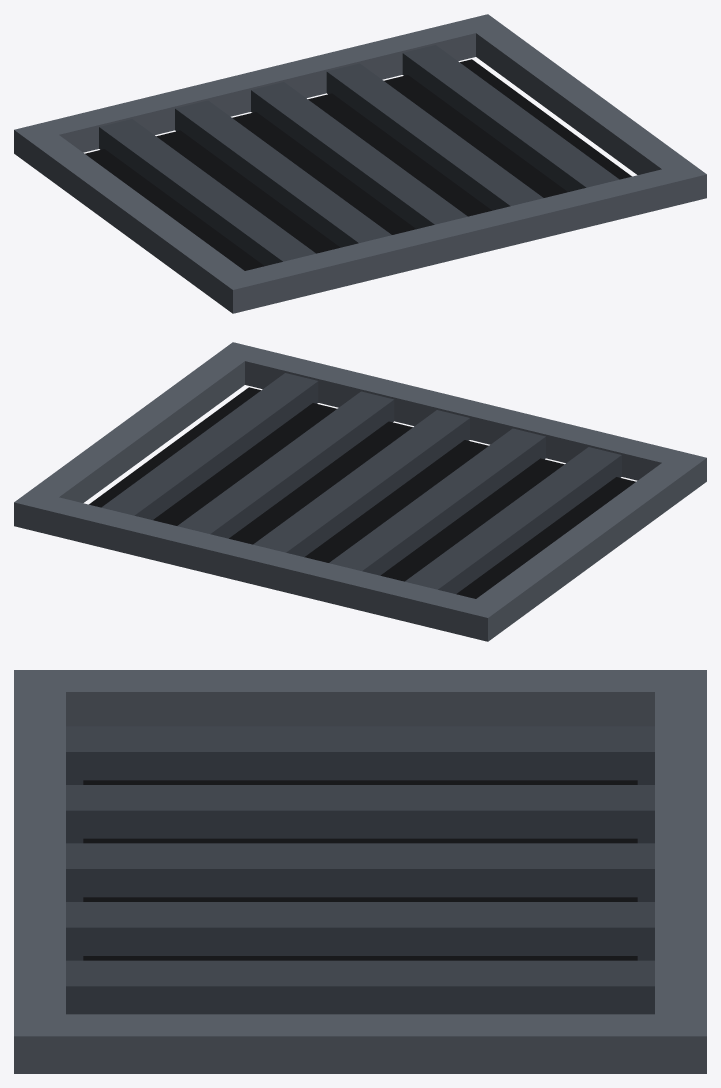
File: GutterGrate.fbx
The picture shows the model from 3 angles, top to bottom: view 1: azimuth 30°, elevation 25°; view 2: azimuth 150°, elevation 25°; view 3: azimuth 270°, elevation 25°; orthographic projection. The views are drawn at different scales.
Parts seen in each view (by area): view 1: Frame.004, Bars, Hole; view 2: Frame.004, Bars, Hole; view 3: Bars, Frame.004, Hole.
Part boxes in pixels (box(x1,y1,x2,y2)): Frame.004: box(14, 14, 706, 313); Bars: box(99, 45, 619, 265); Hole: box(85, 59, 631, 270); Frame.004: box(14, 342, 706, 641); Bars: box(101, 373, 621, 593); Hole: box(89, 387, 635, 598); Bars: box(66, 726, 654, 1014); Frame.004: box(14, 670, 706, 1073); Hole: box(83, 780, 637, 960).
Size of the model in its own units: 0.5 by 0.024 by 0.4.
